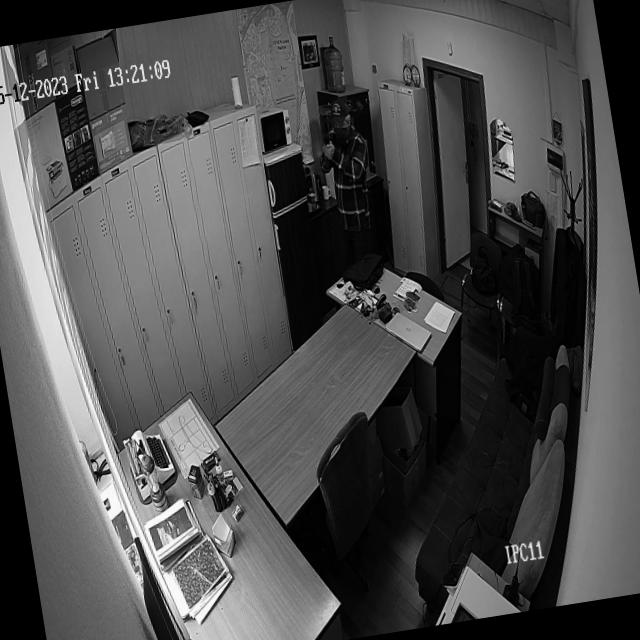gun: (320, 130, 338, 162)
person with a gun: (311, 92, 384, 254)
